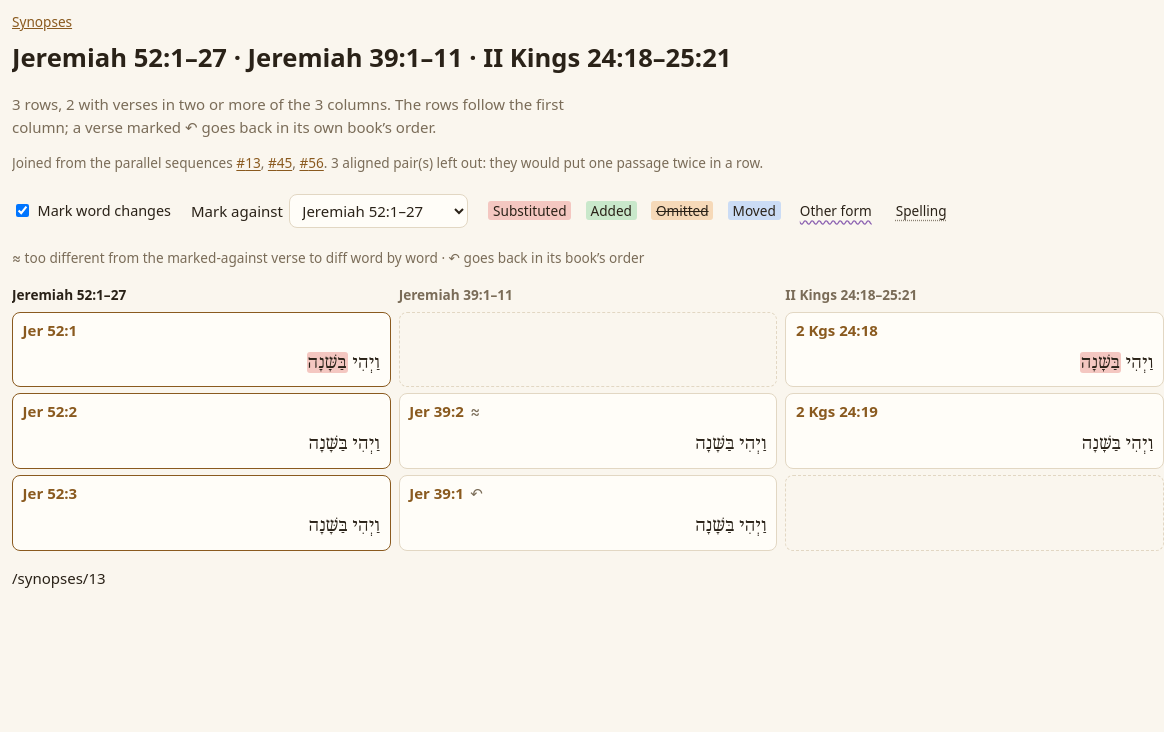
Test: SynopsisPage › shows the passages in columns, marked against the first
Expected: the heading "Jeremiah 52:1–27 · Jeremiah 39:1–11 · II Kings 24:18–25:21" is shown, [12, 40, 732, 75]
Expected: the number of list items with class "syn-row" is 3, [12, 312, 1163, 388]; [12, 393, 1163, 469]; [12, 475, 1163, 551]
Click the checkbox labelled "Mark word changes".
click(22, 211)  # box [16, 204, 29, 217]
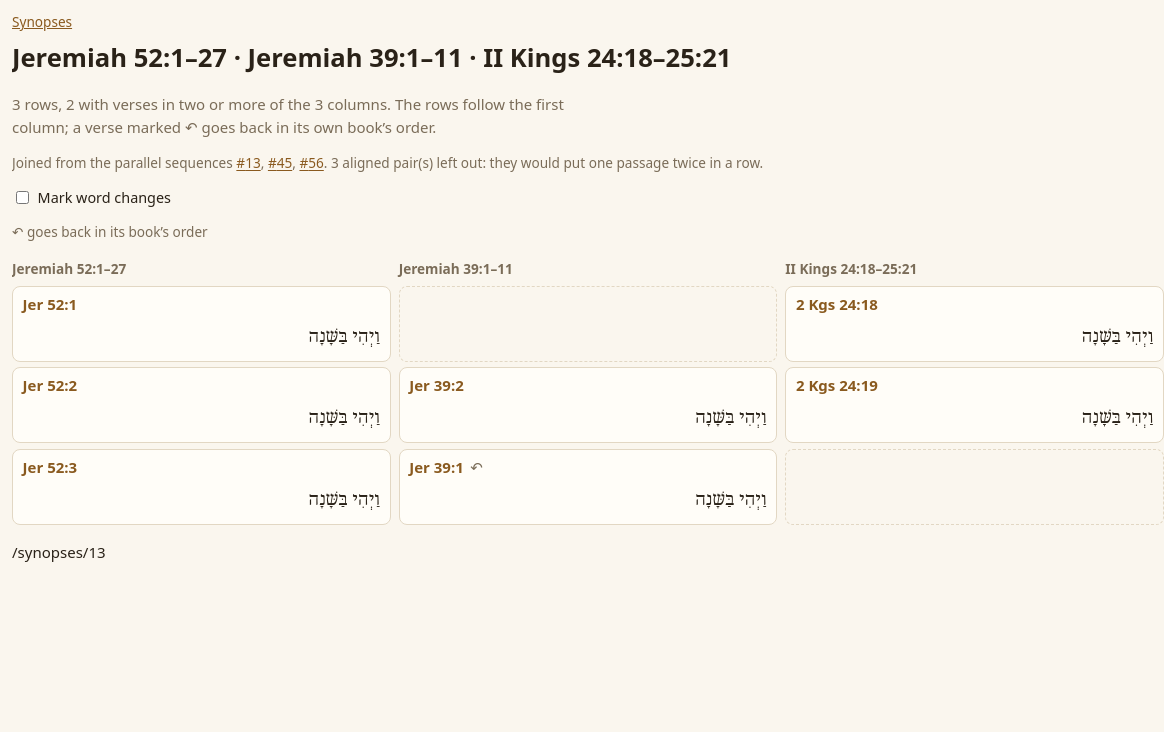
Now the text "too different" is gone
